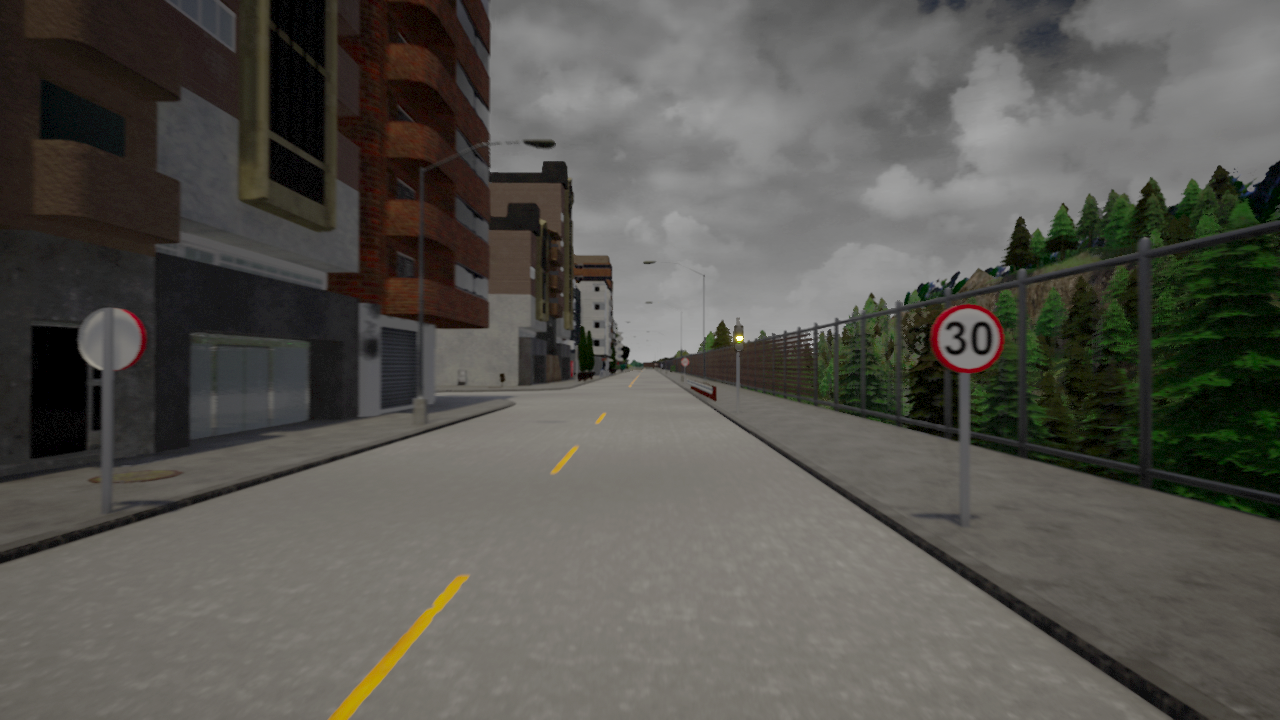yellow: (732, 324, 746, 354)
